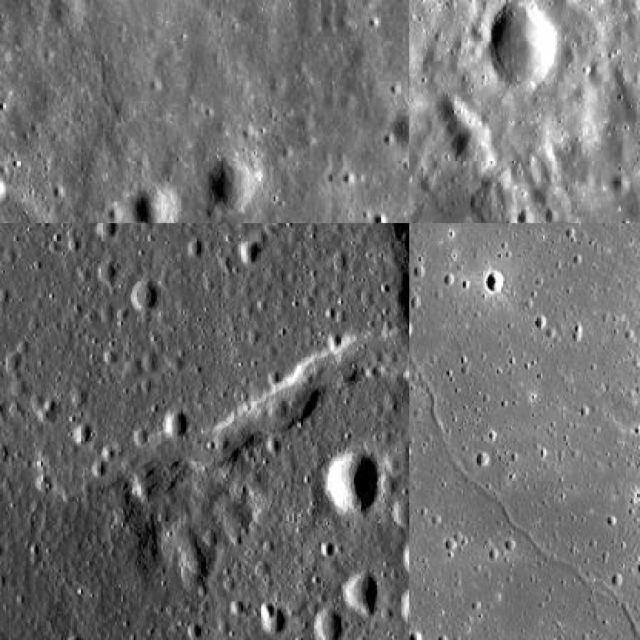rille: (410, 350, 638, 638), (208, 336, 408, 456), (568, 0, 638, 222)
